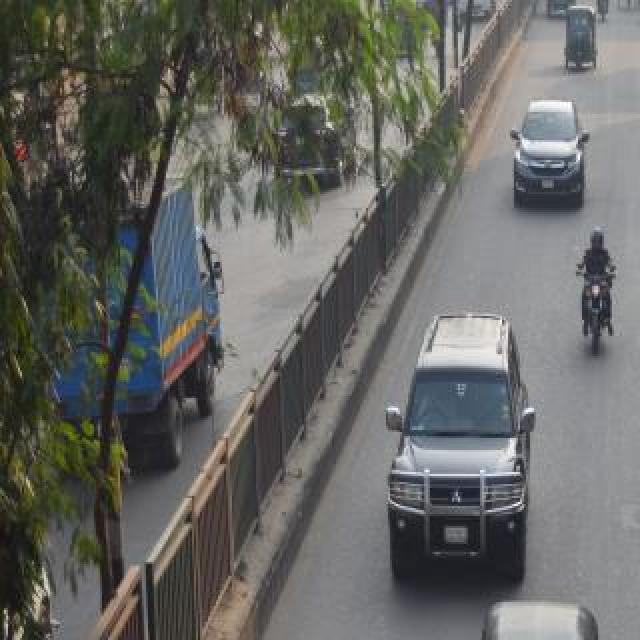car: (375, 324, 533, 584), (265, 81, 373, 183), (507, 106, 595, 214)
motorbike: (578, 226, 624, 358)
van: (23, 162, 237, 466)
